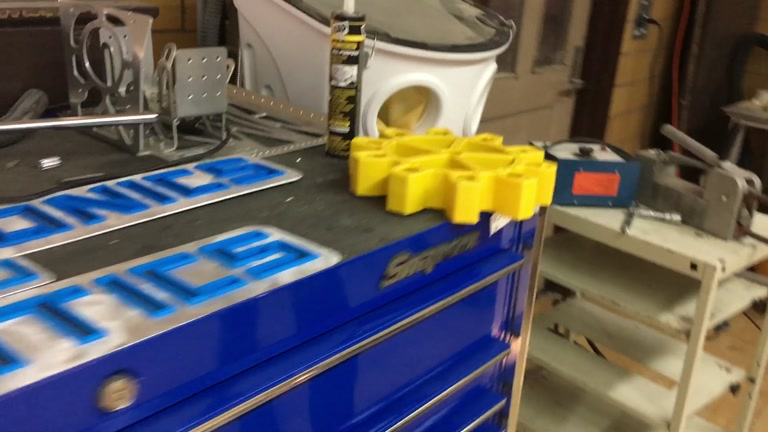gear: (349, 125, 559, 226)
